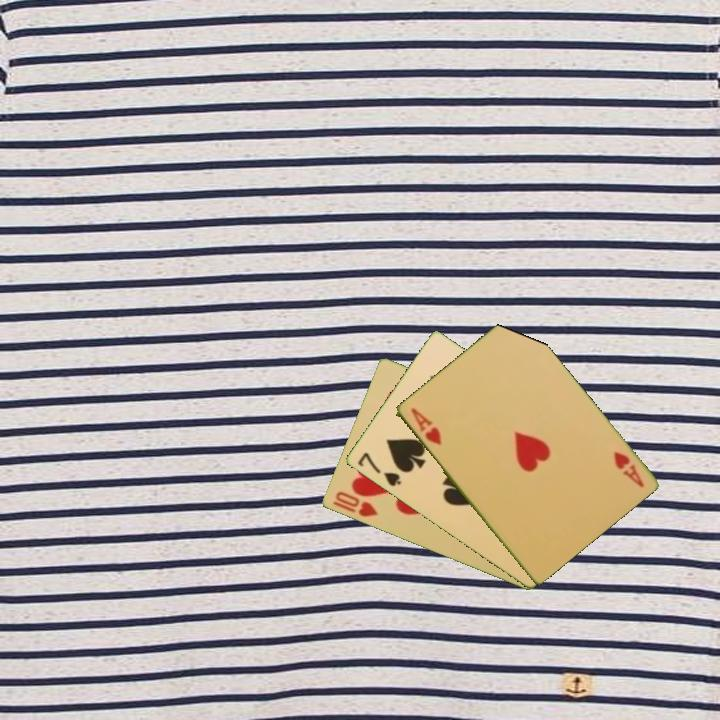10h: (329, 488, 380, 520)
7s: (354, 449, 404, 490)
Ah: (609, 448, 647, 491), (407, 404, 444, 448)
